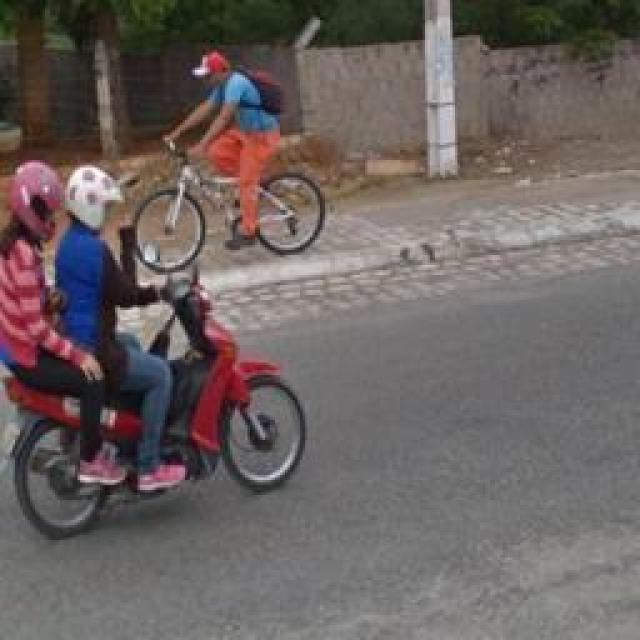motorcycle: (4, 252, 316, 540)
